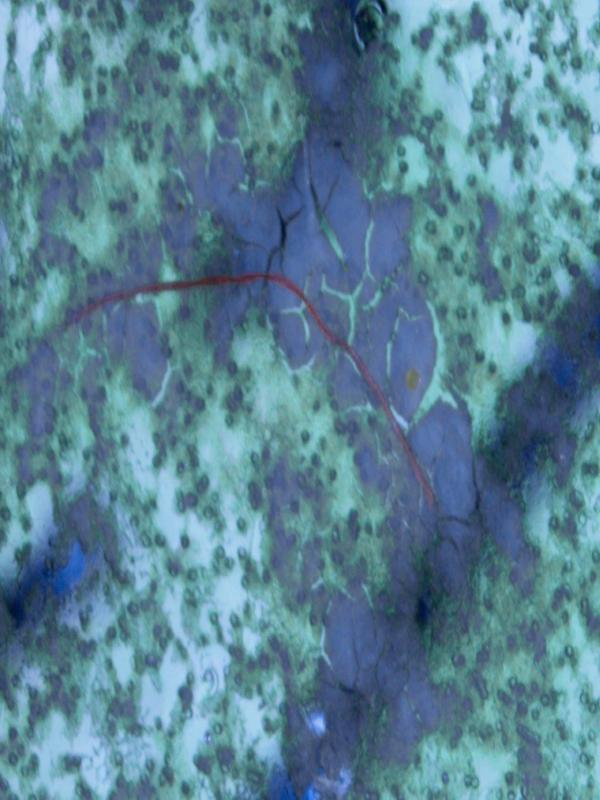microplastic: (32, 265, 442, 513)
